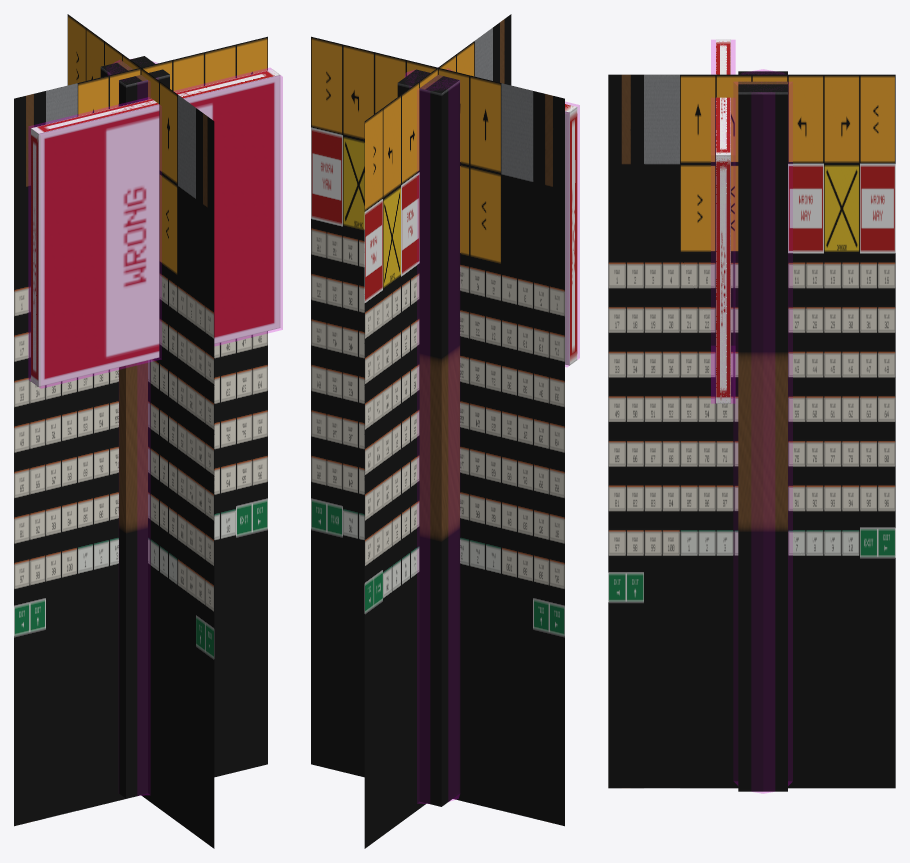
Rendered from sign_wrong_way.dae.
3 renders of one model, left to right at view 1: azimuth 30°, elevation 25°; view 2: azimuth 150°, elevation 25°; view 3: azimuth 270°, elevation 25°, orthographic.
Parts seen in each view (by area): view 1: sign_wrong_way_a50, sign_wrong_way_a800, Colmesh_sign-1, Colmesh_post-1, sign_wrong_way_a200; view 2: sign_wrong_way_a50, sign_wrong_way_a800, Colmesh_post-1, sign_wrong_way_a200, Colmesh_sign-1; view 3: sign_wrong_way_a50, sign_wrong_way_a800, Colmesh_post-1, Colmesh_sign-1.
Boxes of the visible parts, bbox=[...] form: sign_wrong_way_a50: bbox=[14, 14, 267, 848]; sign_wrong_way_a800: bbox=[31, 56, 280, 798]; Colmesh_sign-1: bbox=[28, 68, 282, 388]; Colmesh_post-1: bbox=[108, 60, 157, 795]; sign_wrong_way_a200: bbox=[119, 61, 169, 796]; sign_wrong_way_a50: bbox=[311, 14, 564, 848]; sign_wrong_way_a800: bbox=[397, 69, 577, 806]; Colmesh_post-1: bbox=[405, 68, 459, 803]; sign_wrong_way_a200: bbox=[413, 71, 459, 805]; Colmesh_sign-1: bbox=[565, 102, 579, 366]; sign_wrong_way_a50: bbox=[608, 74, 895, 788]; sign_wrong_way_a800: bbox=[716, 39, 787, 791]; Colmesh_post-1: bbox=[734, 69, 792, 793]; Colmesh_sign-1: bbox=[711, 40, 735, 403].
Bounding box in the file's own units: 0.5775 × 0.5775 × 1.58.
Materials: 2 (1 with a texture image).
